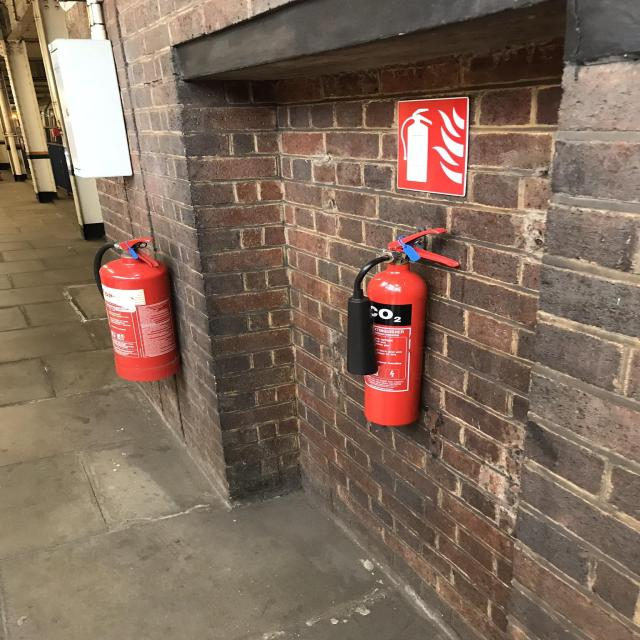fire_extinguisher: (342, 222, 462, 430), (90, 232, 188, 386)
